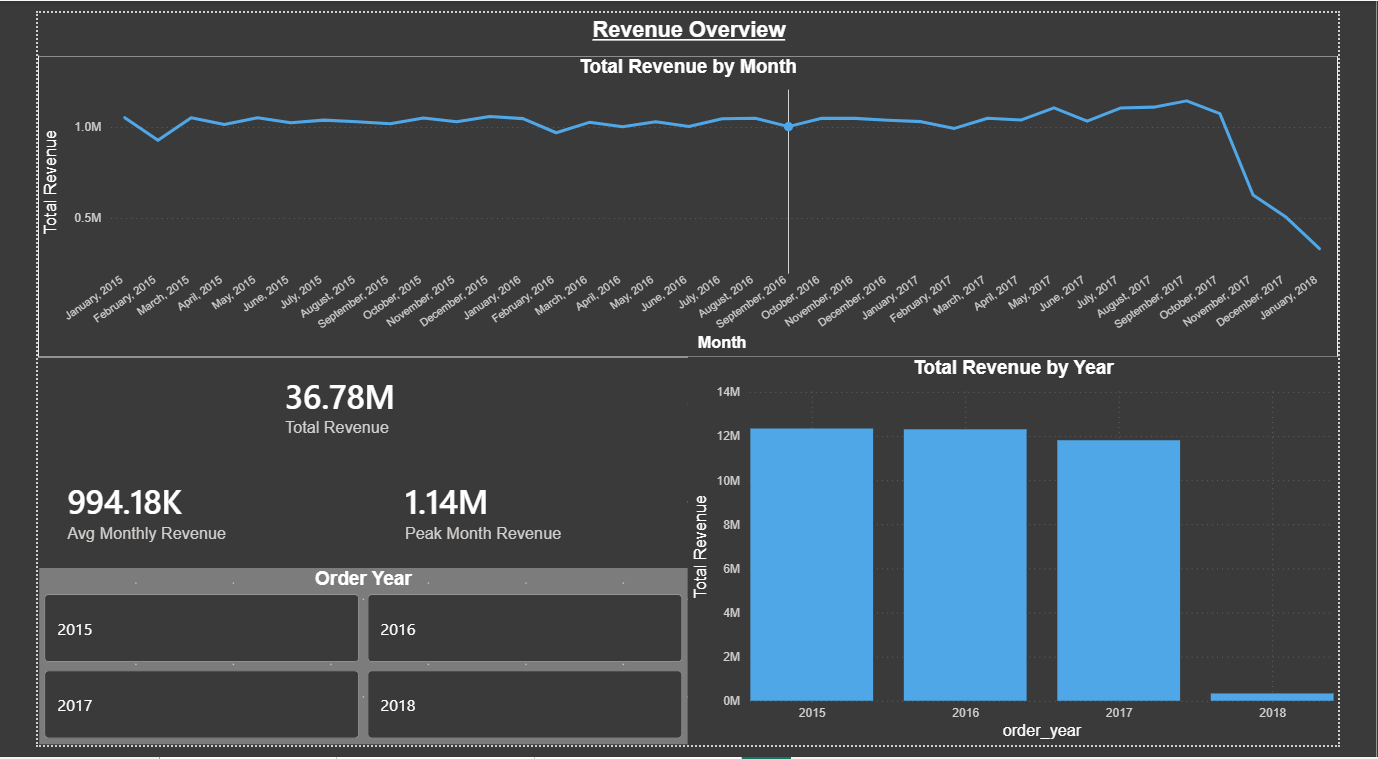

Layout of this report page (visuals, bound fields, positions):
{"tool":"powerbi","page":{"name":"Revenue Overview","canvas":[1280,720],"ordinal":0},"visuals":[{"type":"cardVisual","fields":{"Data":["monthly_sales.Total Revenue"]},"box":[1.2,337.9,638.3,96],"z":0},{"type":"cardVisual","fields":{"Data":["monthly_sales.Avg Monthly Revenue"]},"box":[0,433.9,332.9,112.2],"z":1000},{"type":"cardVisual","fields":{"Data":["monthly_sales.Peak Month Revenue"]},"box":[332.9,433.9,306.7,112.2],"z":2000},{"type":"lineChart","title":"Total Revenue by Month","fields":{"Y":["monthly_sales.Total Revenue"],"Category":["monthly_sales.Month_Label"]},"box":[0,41.8,1280,296.6],"z":3000},{"type":"clusteredColumnChart","title":"Total Revenue by Year","fields":{"Category":["monthly_sales.order_year"],"Y":["monthly_sales.Total Revenue"]},"box":[639.6,337.9,640.8,381.5],"z":4000},{"type":"advancedSlicerVisual","title":"Order Year","fields":{"Values":["monthly_sales.order_year"]},"box":[1.2,546.1,638.3,173.3],"z":5000},{"type":"textbox","box":[1.2,0,1279.2,42.4],"z":6000}]}

Visuals, with their boxes in screenshot pixels (x1, y1, x2, y2), scaled from the page's 1280x720 canvas onto the 1378x759 screenshot:
cardVisual - monthly_sales.Total Revenue: (left=1, top=356, right=688, bottom=457)
cardVisual - monthly_sales.Avg Monthly Revenue: (left=0, top=457, right=358, bottom=576)
cardVisual - monthly_sales.Peak Month Revenue: (left=358, top=457, right=689, bottom=576)
"Total Revenue by Month" lineChart: (left=0, top=44, right=1377, bottom=357)
"Total Revenue by Year" clusteredColumnChart: (left=689, top=356, right=1377, bottom=758)
"Order Year" advancedSlicerVisual: (left=1, top=576, right=688, bottom=758)
textbox: (left=1, top=0, right=1377, bottom=45)
